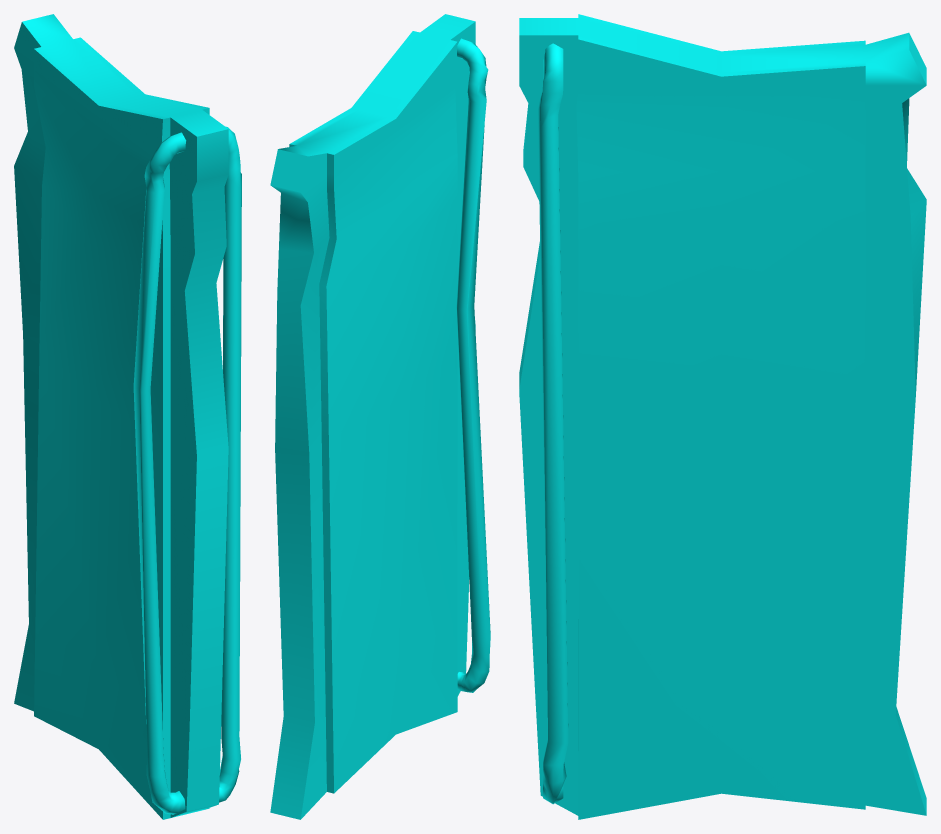
The model's file is Door_Damaged_1.fbx.
3 views of the same model, side by side, from view 1: azimuth 30°, elevation 25°; view 2: azimuth 150°, elevation 25°; view 3: azimuth 270°, elevation 25° (orthographic). The views are drawn at different scales.
Visible parts, largest first — view 1: Door_Damaged1; view 2: Door_Damaged1; view 3: Door_Damaged1.
Boxes of the visible parts, <box> form: Door_Damaged1: <box>14,14,241,819</box>; Door_Damaged1: <box>270,14,490,819</box>; Door_Damaged1: <box>519,14,926,819</box>.
Size of what is drawn, in the model's own units: 25.76 by 190 by 89.9.
